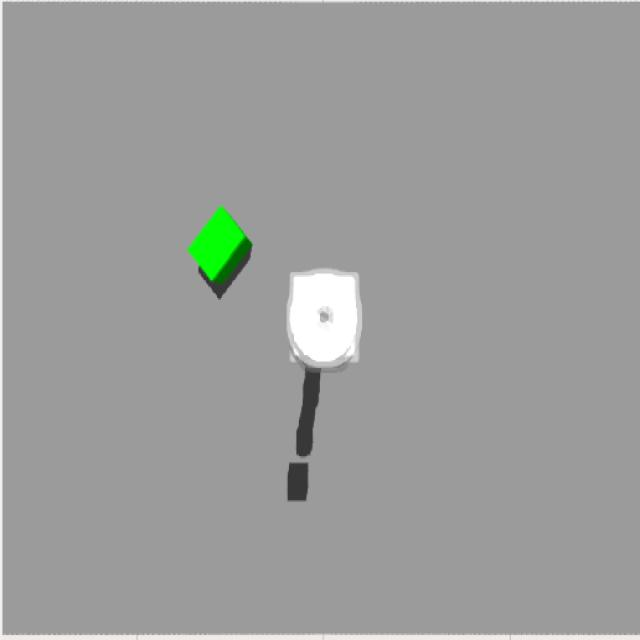box: (189, 207, 252, 298)
